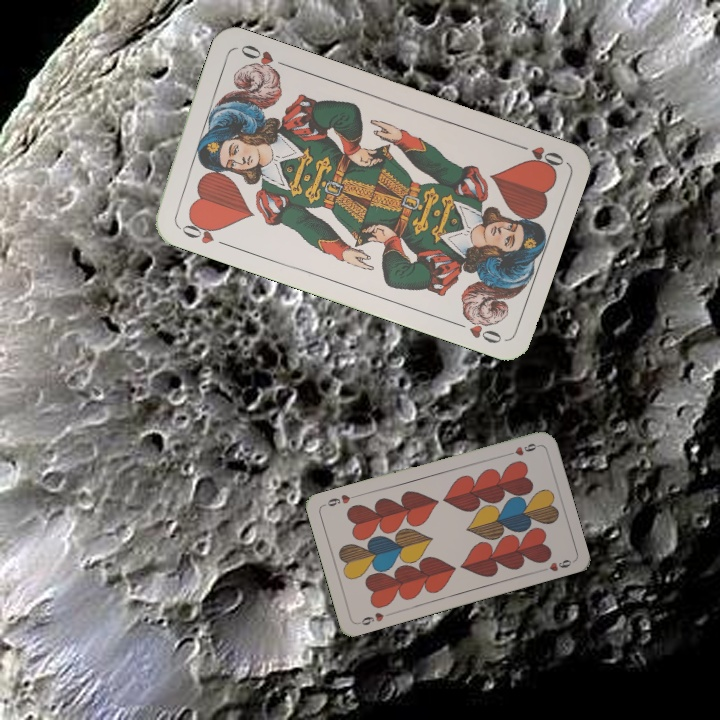H9: (354, 608, 393, 628), (501, 439, 541, 458)
HO: (173, 214, 230, 249), (509, 139, 567, 173)
